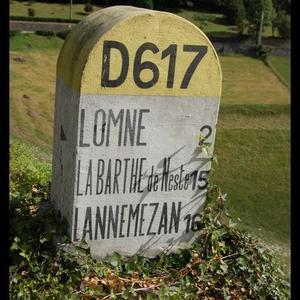kmstone: (57, 4, 227, 253)
